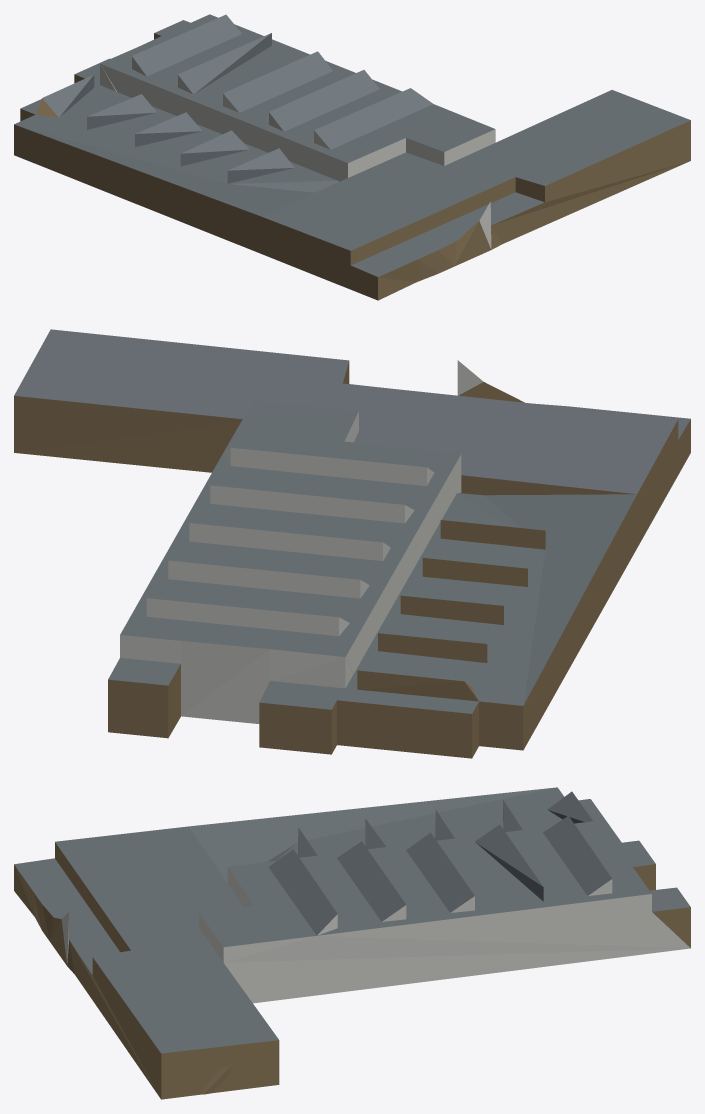
The model's file is asterweg-23.lod2.glb.
3 views of the same model, one above another, from view 1: azimuth 30°, elevation 25°; view 2: azimuth 150°, elevation 25°; view 3: azimuth 270°, elevation 25° (orthographic). The views are drawn at different scales.
Parts seen in each view (by area): view 1: lod2; view 2: lod2; view 3: lod2.
Part boxes in pixels (bbox=[...]): lod2: bbox=[14, 14, 690, 300]; lod2: bbox=[14, 329, 690, 758]; lod2: bbox=[14, 787, 690, 1099].
Bounding box in the file's own units: 110 × 13.77 × 113.
